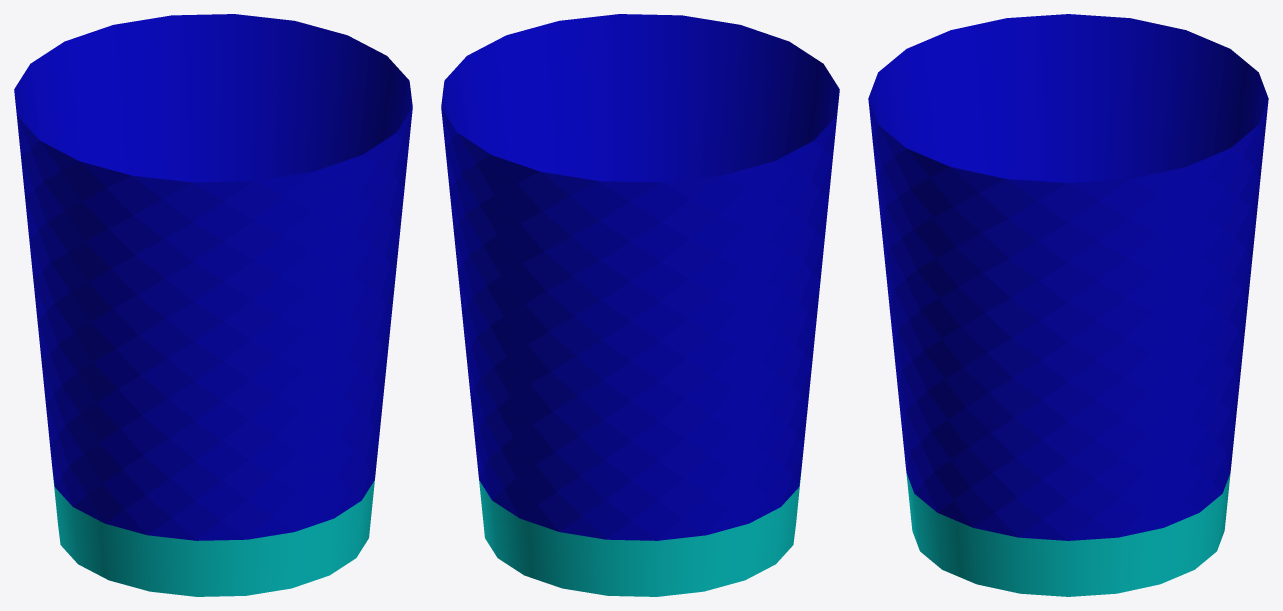
The model's file is BinObj.fbx.
3 views of the same model, side by side, from view 1: azimuth 30°, elevation 25°; view 2: azimuth 150°, elevation 25°; view 3: azimuth 270°, elevation 25° (orthographic).
Parts seen in each view (by area): view 1: pCylinder1; view 2: pCylinder1; view 3: pCylinder1.
Part boxes in pixels (<box>): pCylinder1: <box>14,14,412,596</box>; pCylinder1: <box>441,14,839,596</box>; pCylinder1: <box>868,14,1268,596</box>.
Bounding box in the file's own units: 1.95 × 2.32 × 1.95.
